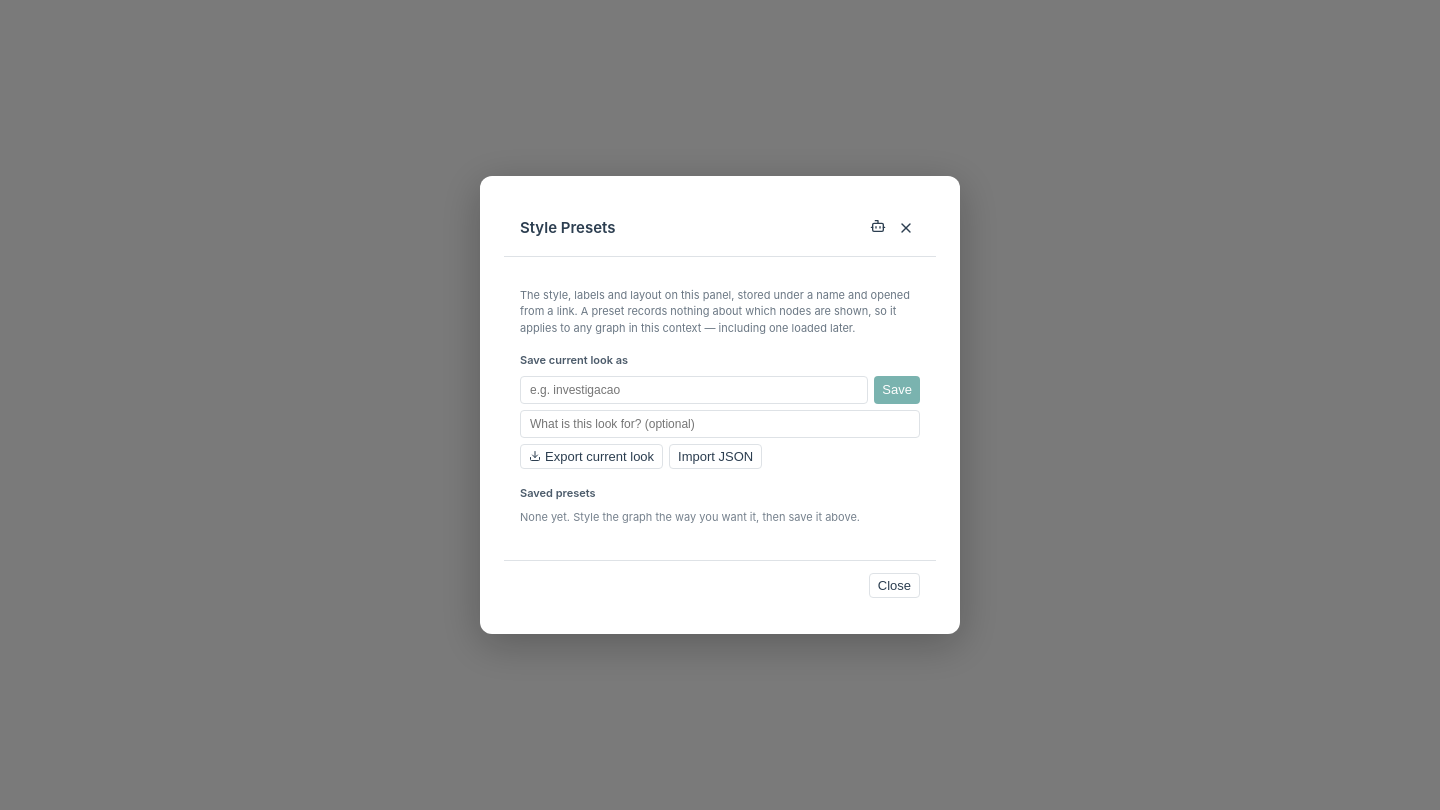
Test: StylePresetModal › saving › re-lists and applies what it saved
Type "novo" into the field labelled "Save current look as" at (694, 390), box [520, 376, 868, 404]
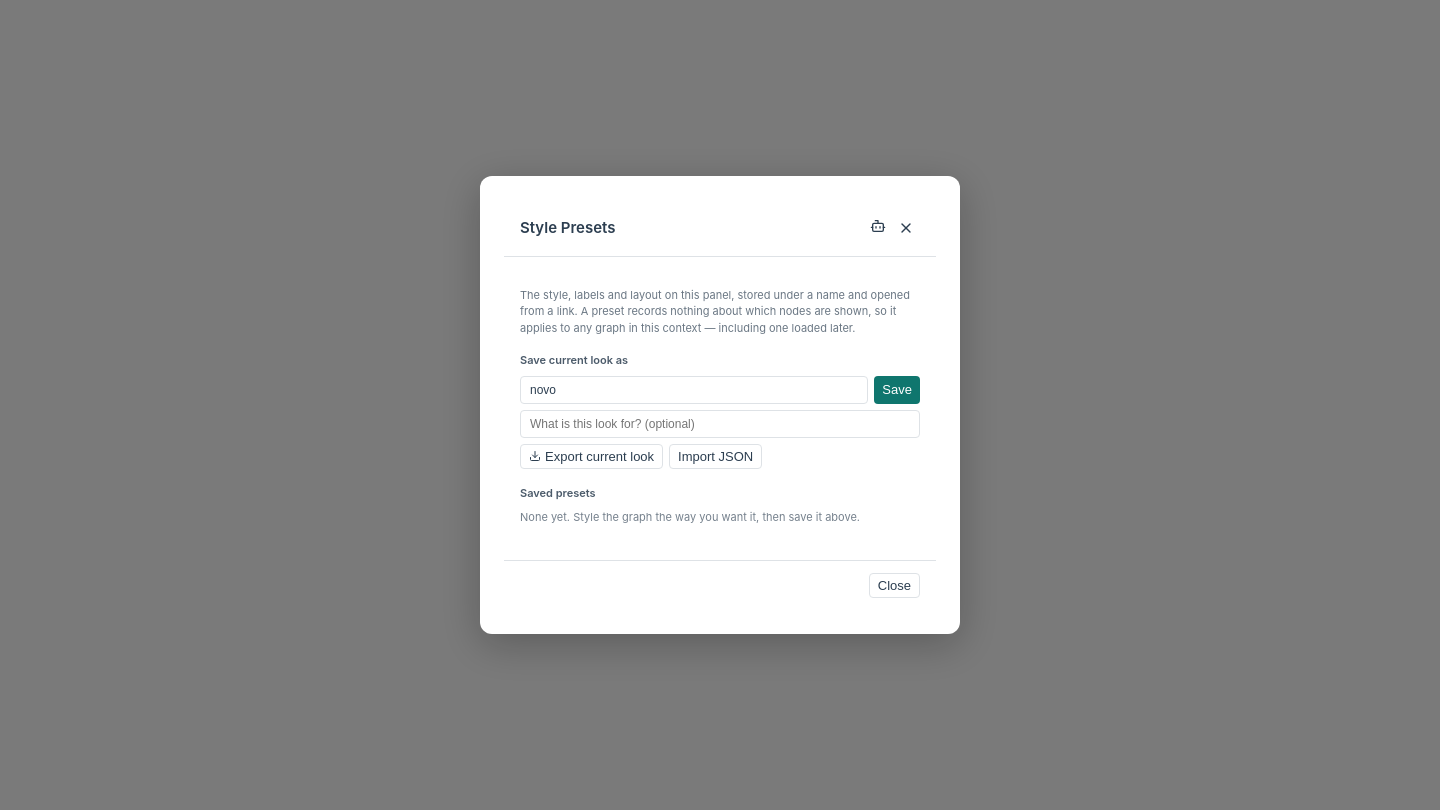
Click the button "Save" at (897, 390), box [874, 376, 920, 404]
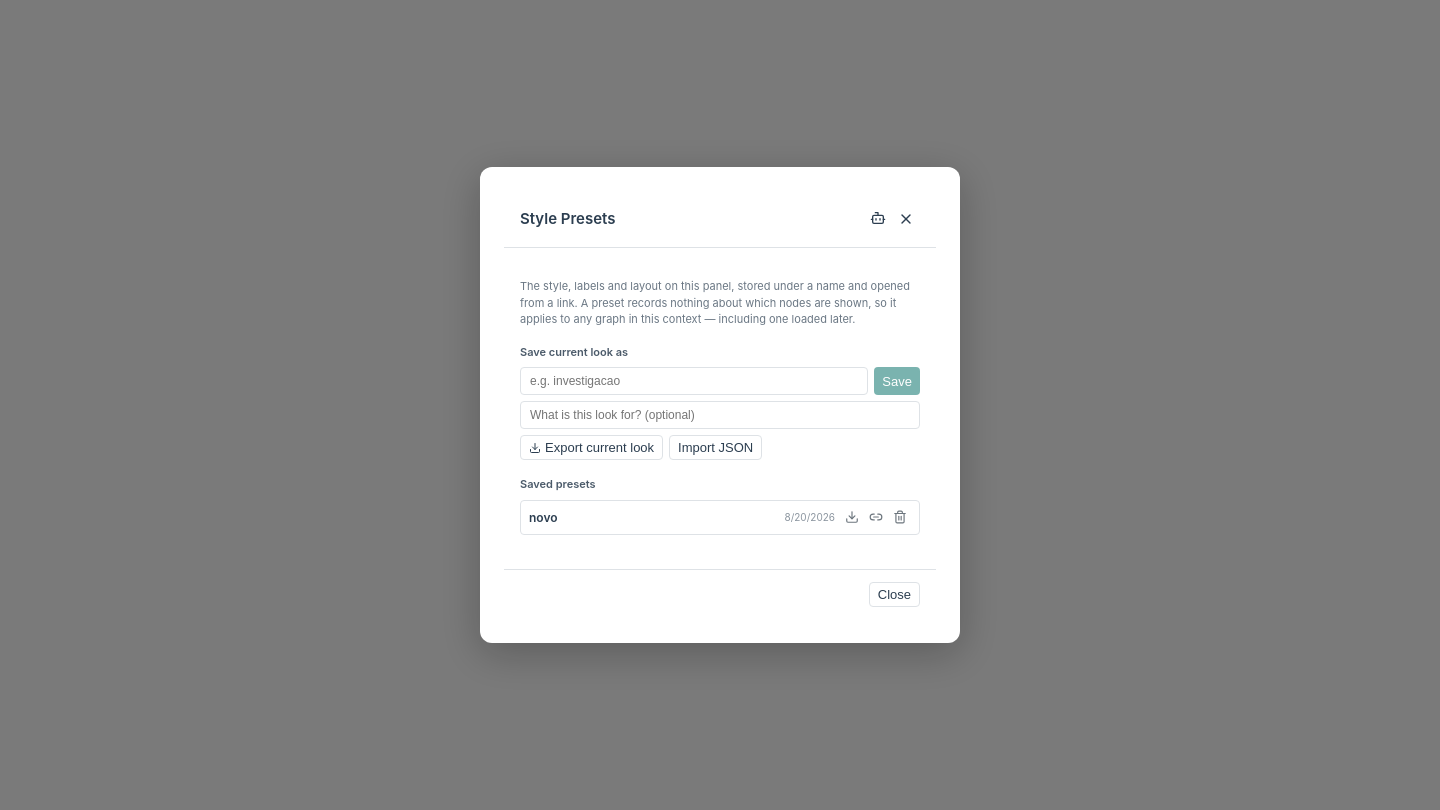
Now the text "novo" is shown, box [529, 508, 558, 527]
